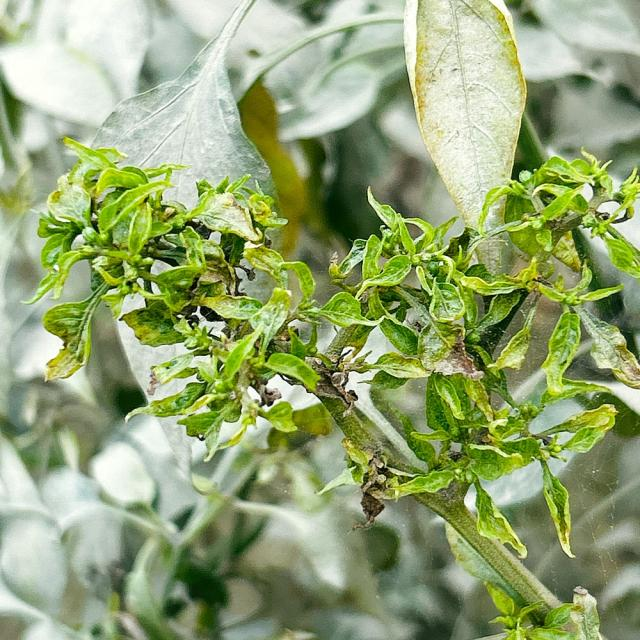Chilli_Leaf_Curl: (22, 1, 637, 635), (313, 151, 638, 561), (22, 134, 320, 461), (401, 0, 528, 236)
